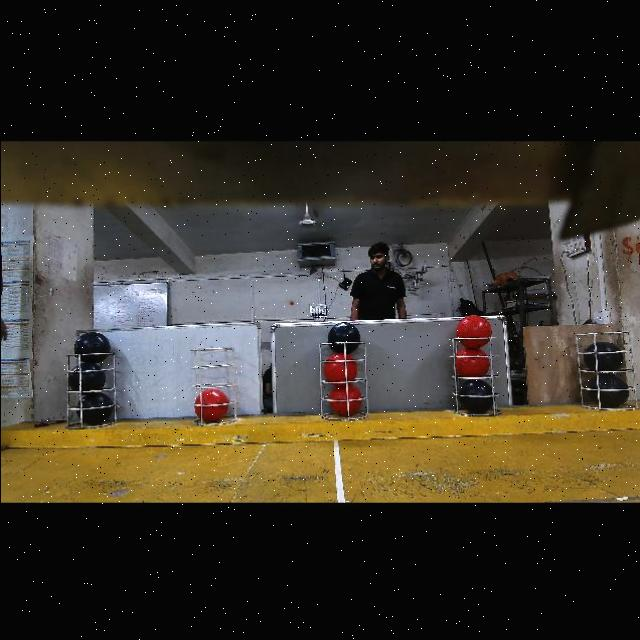P: (585, 372, 627, 408), (74, 391, 113, 425), (582, 342, 623, 372), (72, 332, 110, 364), (458, 378, 492, 413), (67, 362, 104, 392), (327, 322, 360, 354)
R: (322, 352, 357, 386), (455, 315, 491, 348), (454, 347, 488, 379), (328, 384, 361, 416), (195, 389, 226, 422)
S: (446, 336, 506, 424), (574, 324, 630, 418), (185, 345, 241, 431), (65, 348, 121, 426), (320, 338, 370, 424)
